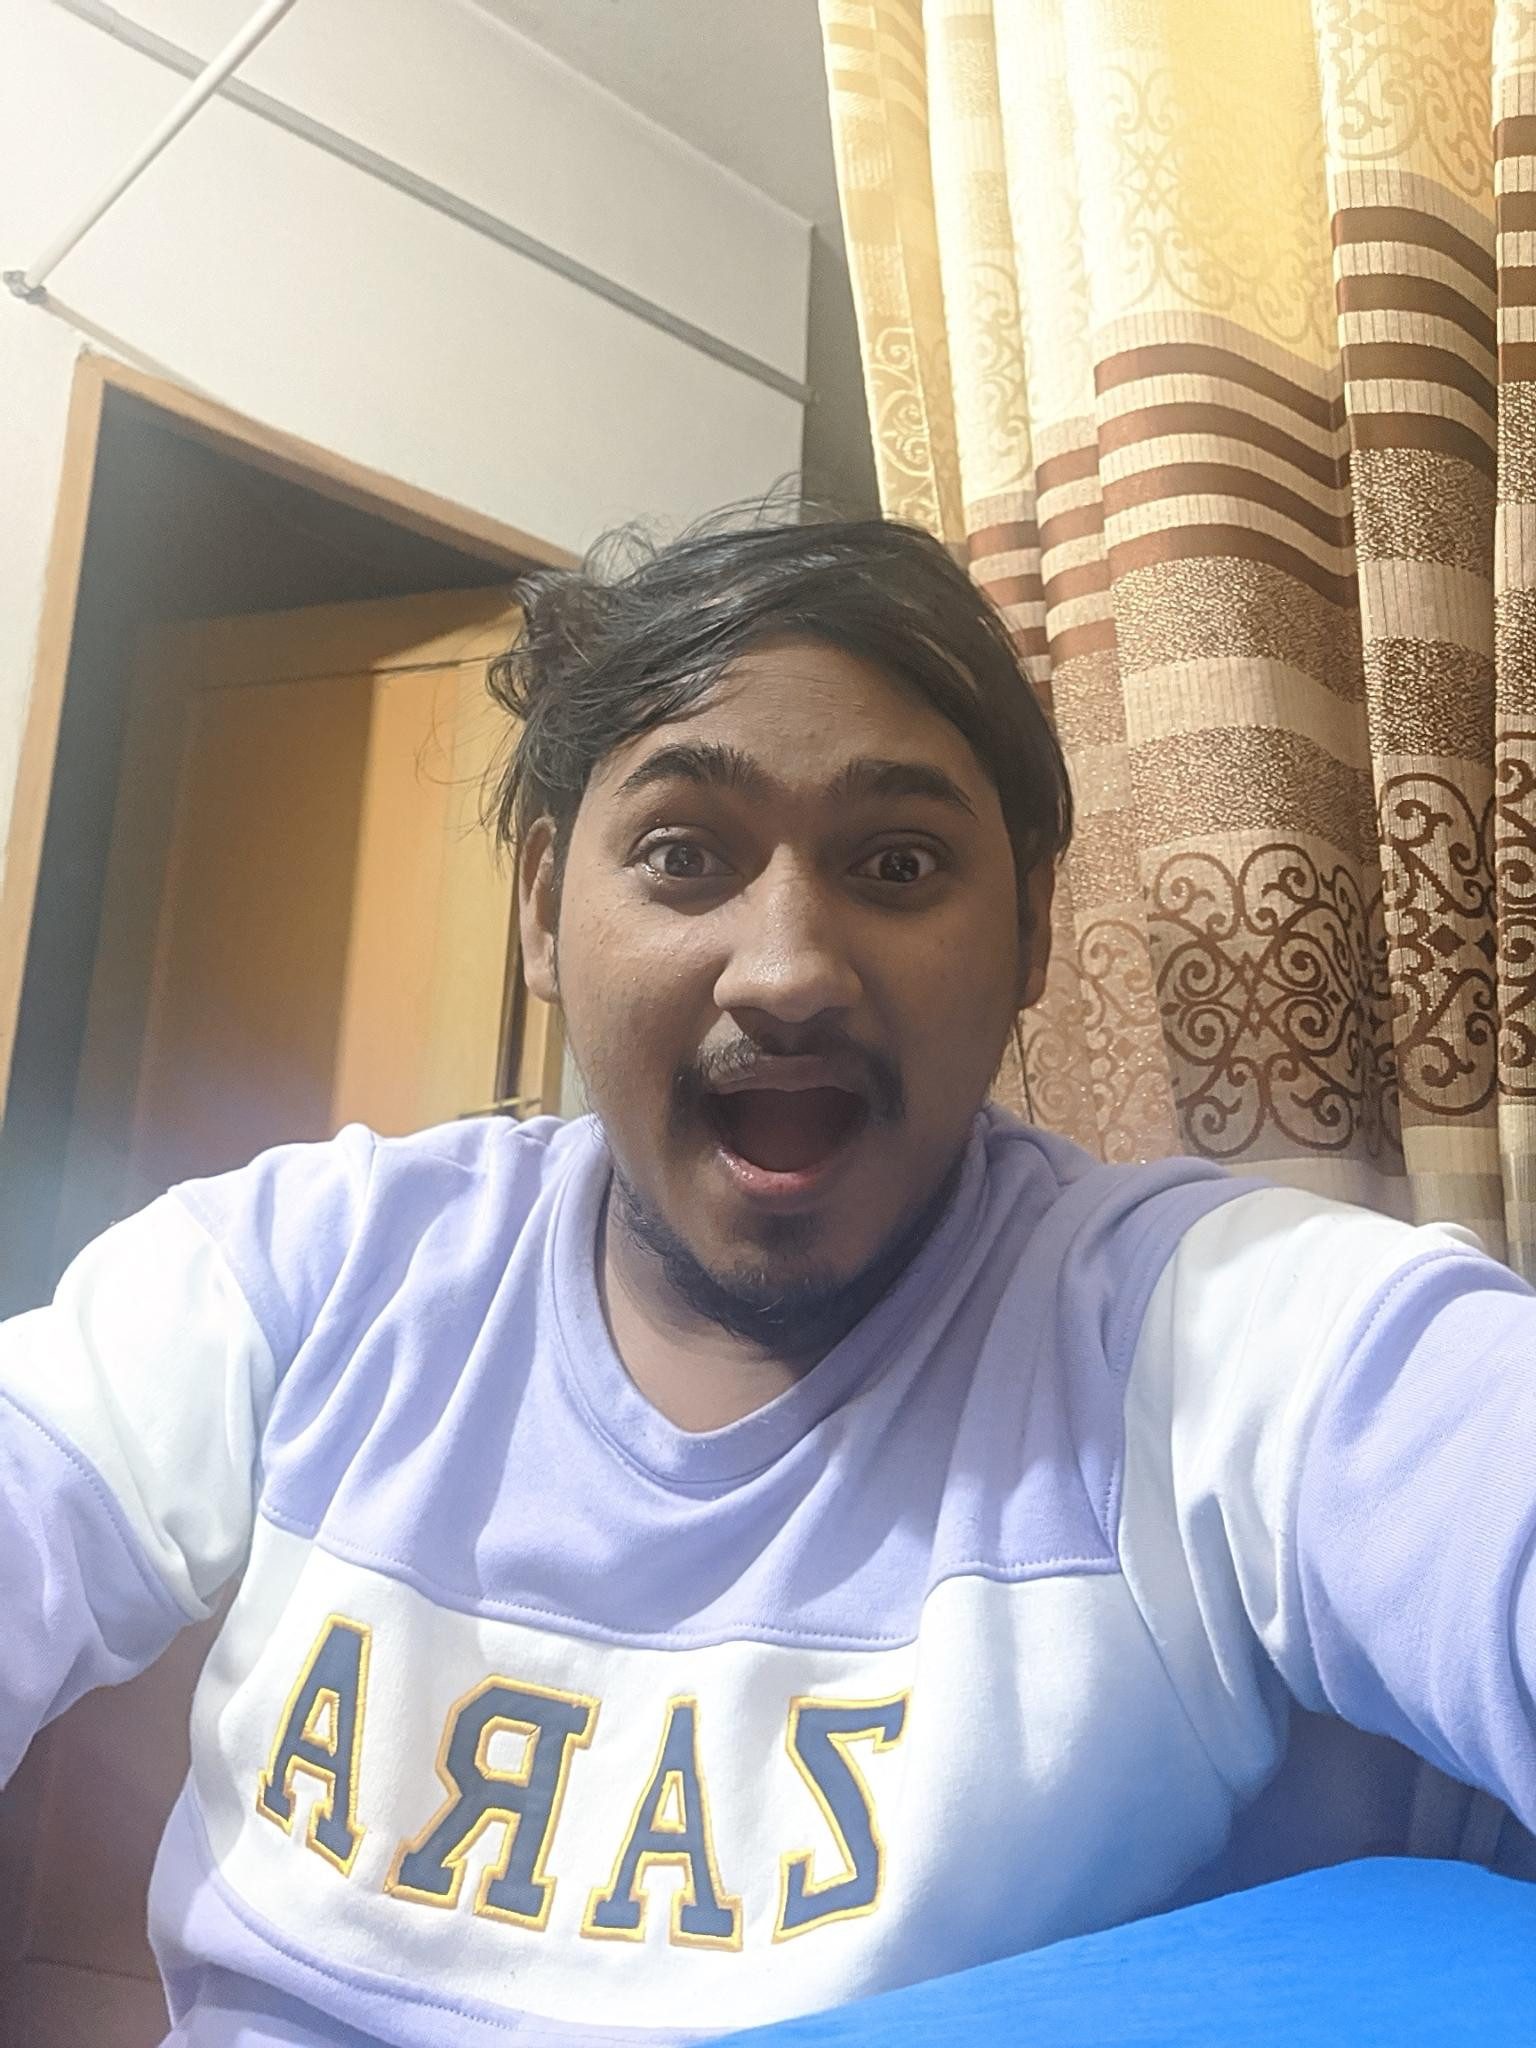Surprise: (565, 672, 1013, 1311)
